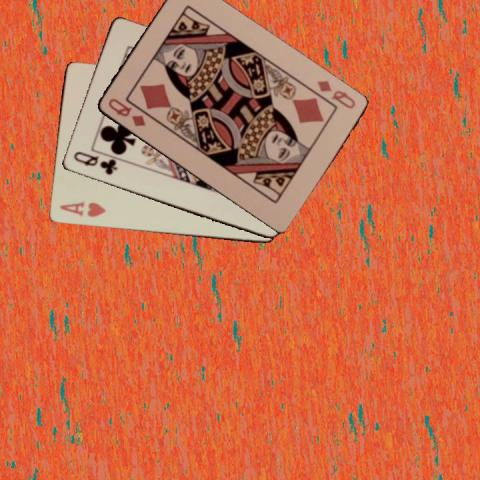Ah: (56, 198, 107, 218)
Qc: (70, 148, 119, 176)
Qd: (313, 76, 357, 110), (104, 95, 147, 128)
